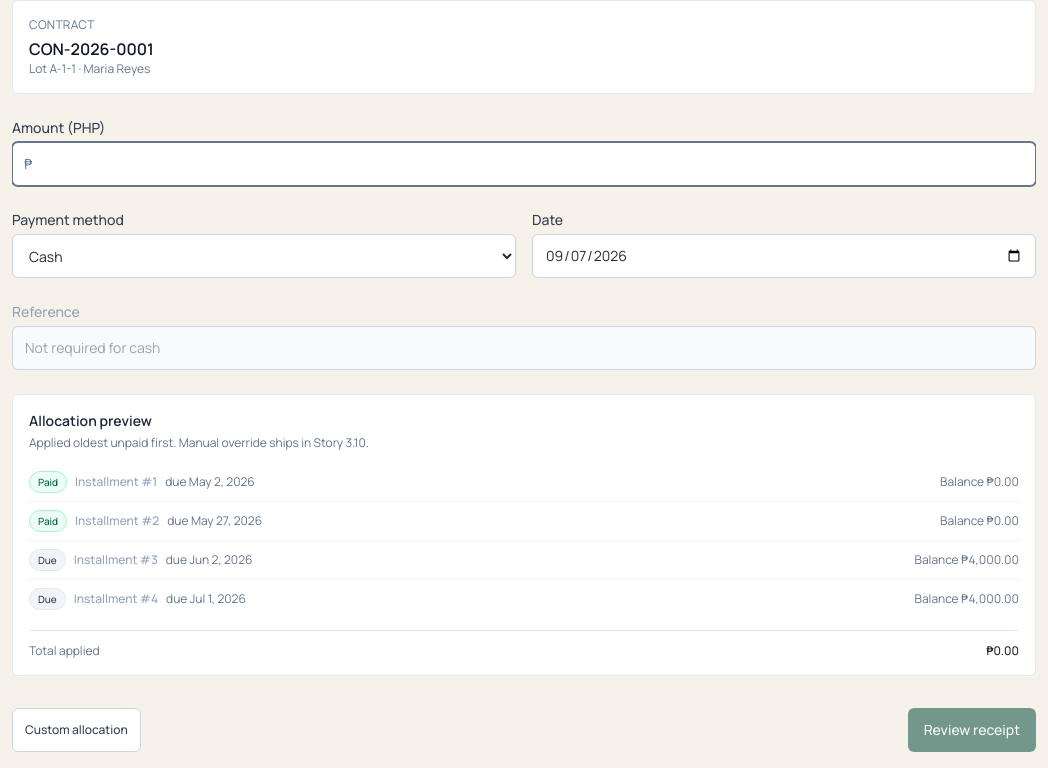
it: PaymentForm — rendering › surfaces the allocation preview row for the touched installment
This screenshot has width=1048, height=768.
Type "4000" into the field with test id "payment-amount-input".
click(524, 164); type("4000")  # box [12,142,1036,186]
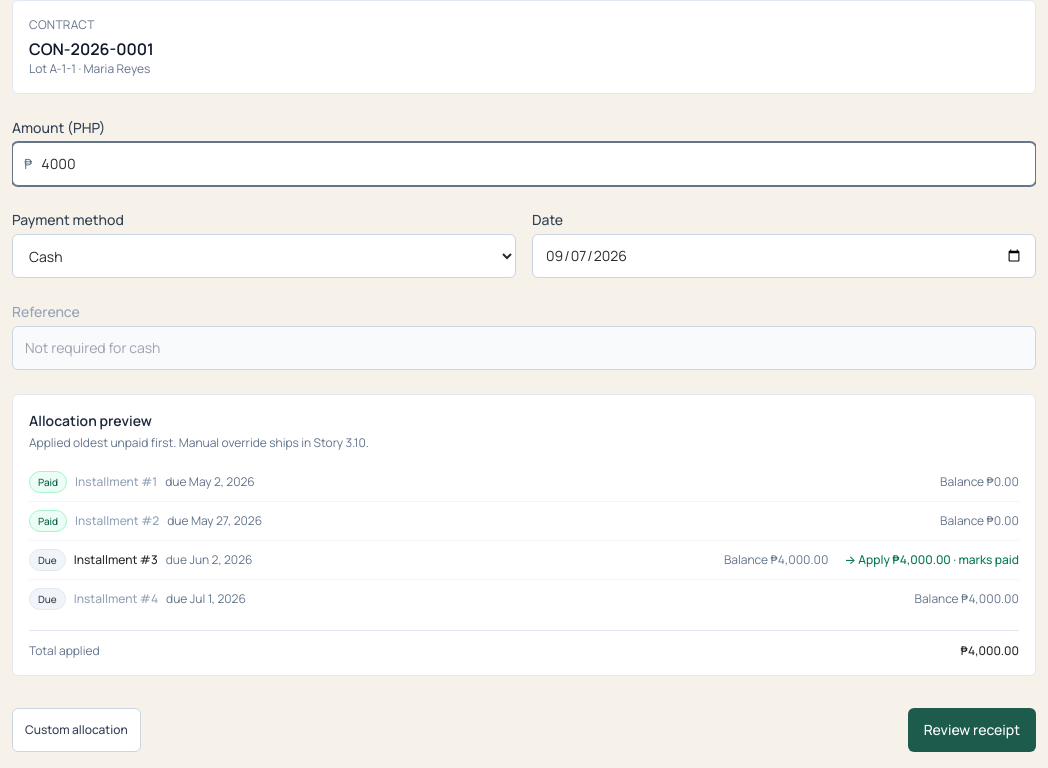
Check: the text "→ Apply ₱4,000.00 · marks paid" is shown, box [844,552,1019,568]
